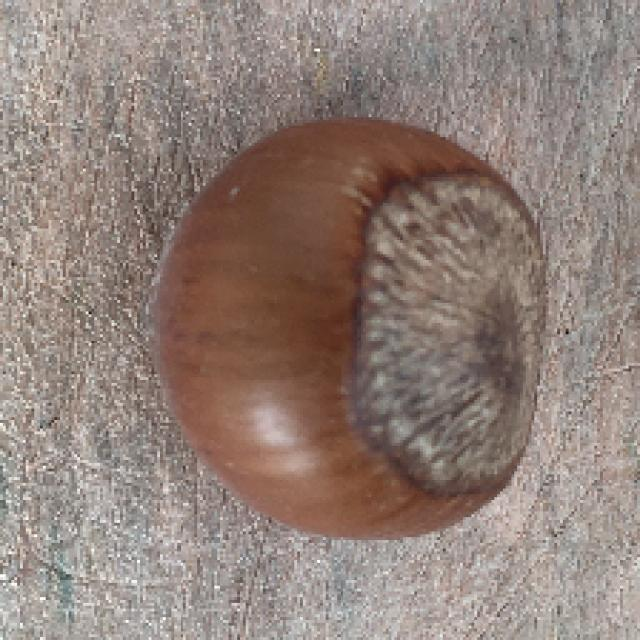damagedHazelnut: (145, 111, 558, 557)
